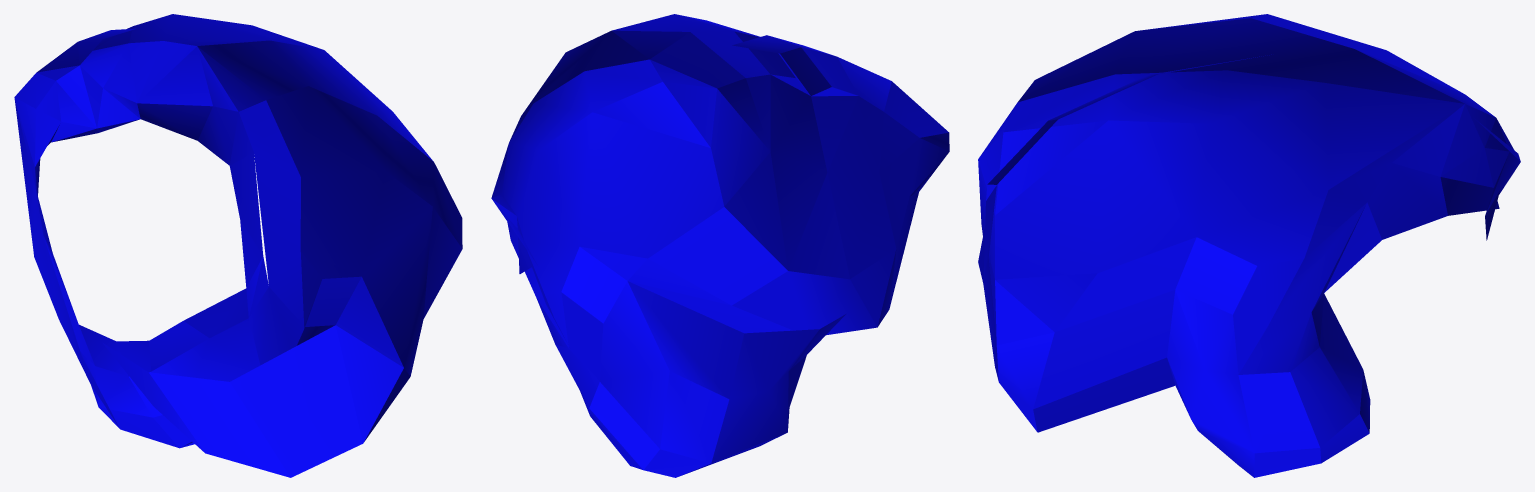
The model's file is interiorCabeza.glb.
The picture shows the model from 3 angles, left to right: view 1: azimuth 30°, elevation 25°; view 2: azimuth 150°, elevation 25°; view 3: azimuth 270°, elevation 25°; orthographic projection. The views are drawn at different scales.
Visible parts, largest first — view 1: interior_cabeza_gigante_azul:Mesh; view 2: interior_cabeza_gigante_azul:Mesh; view 3: interior_cabeza_gigante_azul:Mesh.
Boxes of the visible parts, left/top/right/bottom form: interior_cabeza_gigante_azul:Mesh: left=14, top=14, right=462, bottom=477; interior_cabeza_gigante_azul:Mesh: left=491, top=14, right=949, bottom=477; interior_cabeza_gigante_azul:Mesh: left=978, top=14, right=1520, bottom=477.
Bounding box in the file's own units: 1.88 × 2.19 × 2.53.
